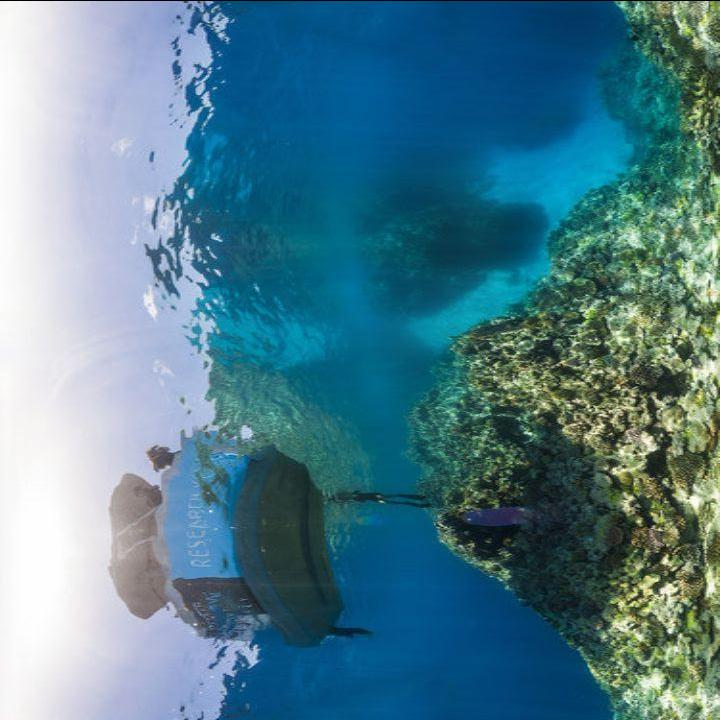Healthy Coral: (416, 183, 712, 613)
